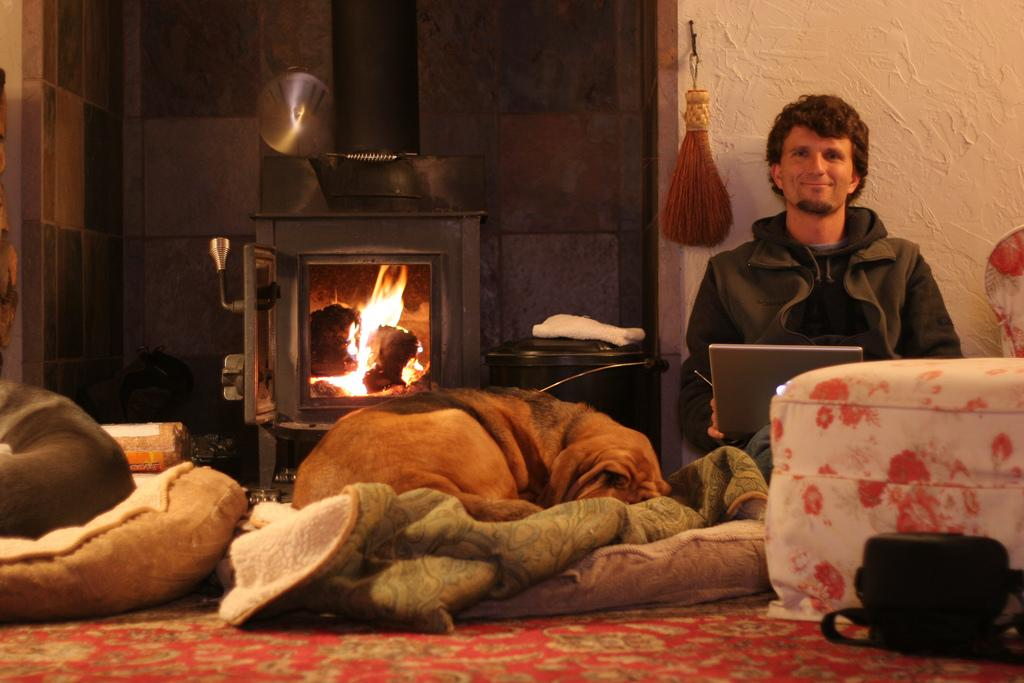fire: (370, 285, 415, 335), (337, 358, 365, 400)
